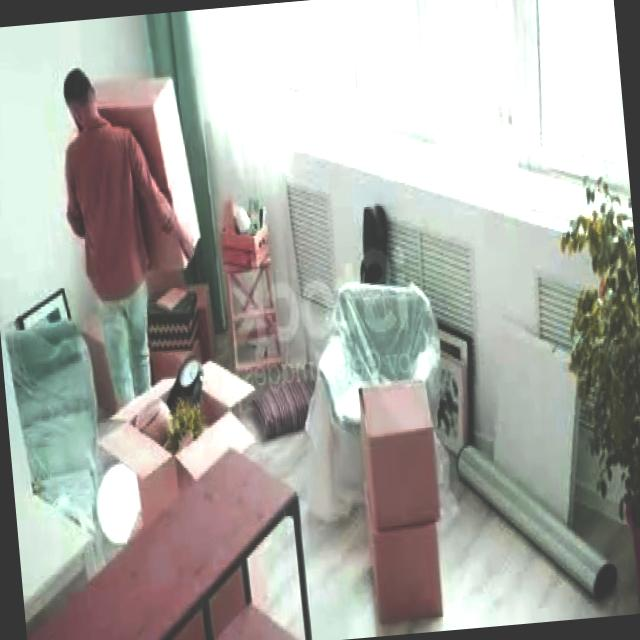Box: (360, 379, 440, 525), (374, 526, 446, 607)
